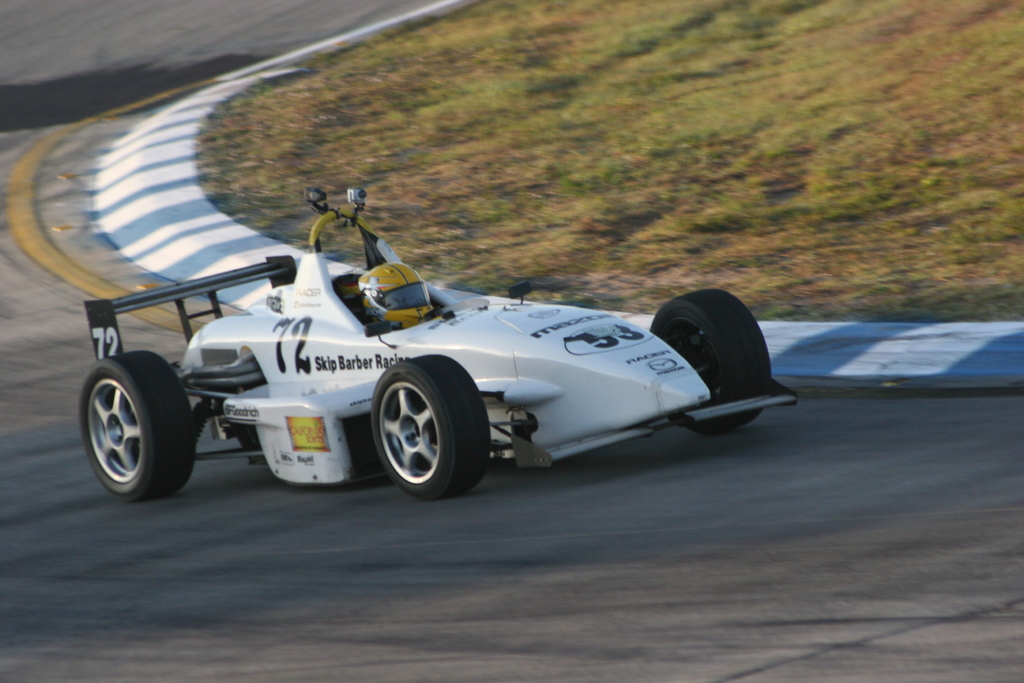cars: (57, 194, 795, 504)
